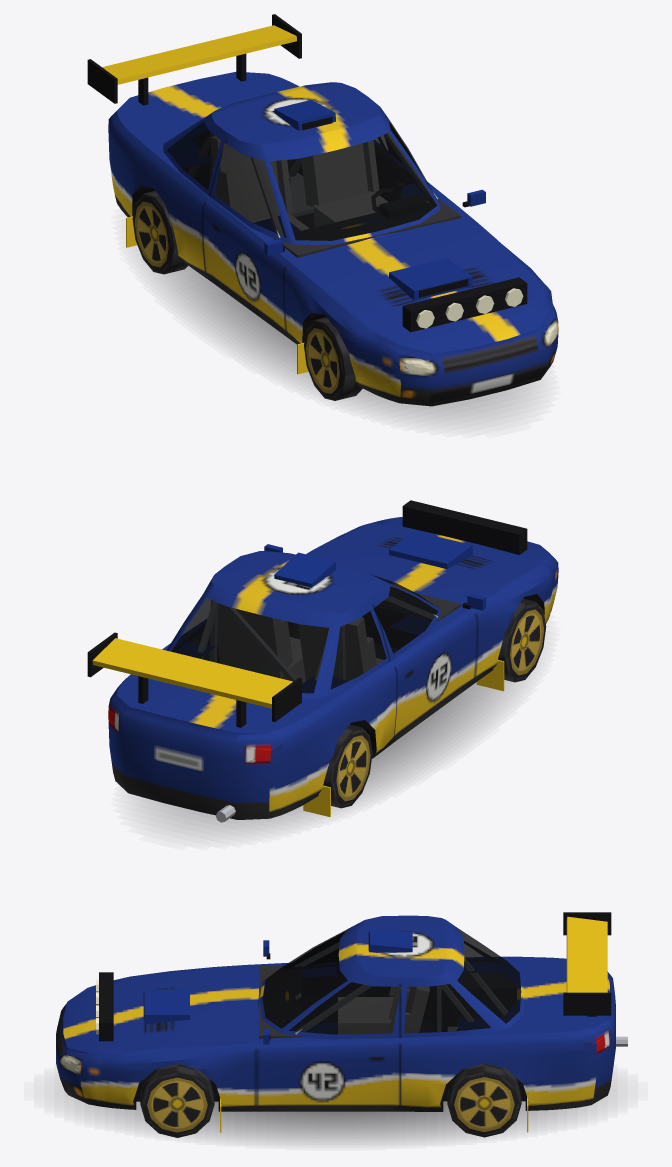
The model's file is temporal.glb.
The picture shows the model from 3 angles, top to bottom: view 1: azimuth 30°, elevation 25°; view 2: azimuth 150°, elevation 25°; view 3: azimuth 270°, elevation 25°; orthographic projection. The views are drawn at different scales.
Parts seen in each view (by area): view 1: Carroceria, Capo_malha, Interior, Porta_D_malha, Tampa_malha, Sombra, Roda_DD, Roda_TD, Porta_E_malha; view 2: Carroceria, Capo_malha, Interior, Tampa_malha, Porta_D_malha, Sombra, Roda_TD, Roda_DD; view 3: Carroceria, Porta_E_malha, Capo_malha, Interior, Sombra, Tampa_malha, Roda_TE, Roda_DE, Porta_D_malha.
Part boxes in pixels (bbox=[...]): Carroceria: bbox=[87, 14, 558, 406]; Capo_malha: bbox=[304, 225, 554, 360]; Interior: bbox=[183, 131, 460, 257]; Porta_D_malha: bbox=[202, 134, 292, 329]; Tampa_malha: bbox=[102, 25, 297, 134]; Sombra: bbox=[150, 266, 531, 422]; Roda_DD: bbox=[304, 317, 362, 400]; Roda_TD: bbox=[132, 190, 188, 274]; Porta_E_malha: bbox=[379, 107, 485, 207]; Carroceria: bbox=[87, 523, 558, 822]; Capo_malha: bbox=[311, 500, 554, 599]; Interior: bbox=[173, 587, 460, 682]; Tampa_malha: bbox=[92, 638, 306, 740]; Porta_D_malha: bbox=[371, 580, 485, 735]; Sombra: bbox=[140, 680, 519, 834]; Roda_TD: bbox=[323, 724, 372, 808]; Roda_DD: bbox=[498, 598, 546, 682]; Carroceria: bbox=[56, 912, 627, 1132]; Porta_E_malha: bbox=[256, 971, 400, 1104]; Capo_malha: bbox=[68, 967, 242, 1058]; Interior: bbox=[143, 941, 516, 1079]; Sombra: bbox=[64, 1091, 607, 1142]; Tampa_malha: bbox=[539, 916, 610, 1036]; Roda_TE: bbox=[447, 1063, 521, 1137]; Roda_DE: bbox=[140, 1064, 214, 1137]; Porta_D_malha: bbox=[263, 932, 344, 967].
Bounding box in the file's own units: 2.42 × 1.45 × 5.37.
14 materials, 5 textured.
